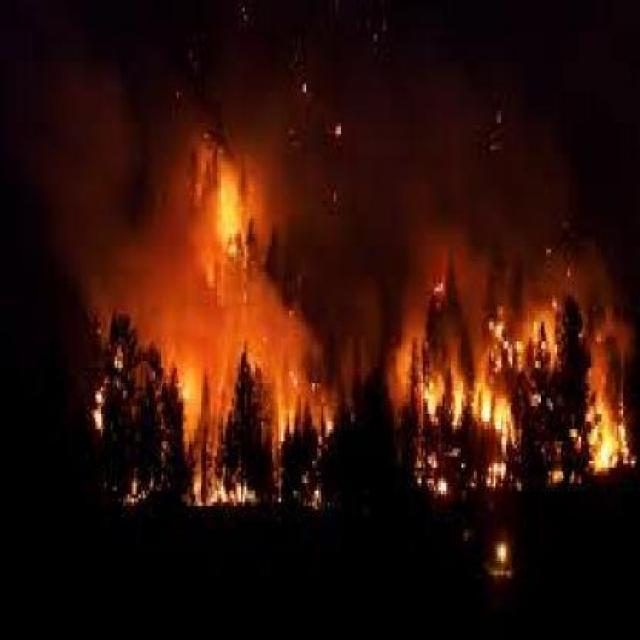Fire: (46, 281, 352, 551), (378, 279, 638, 517)
